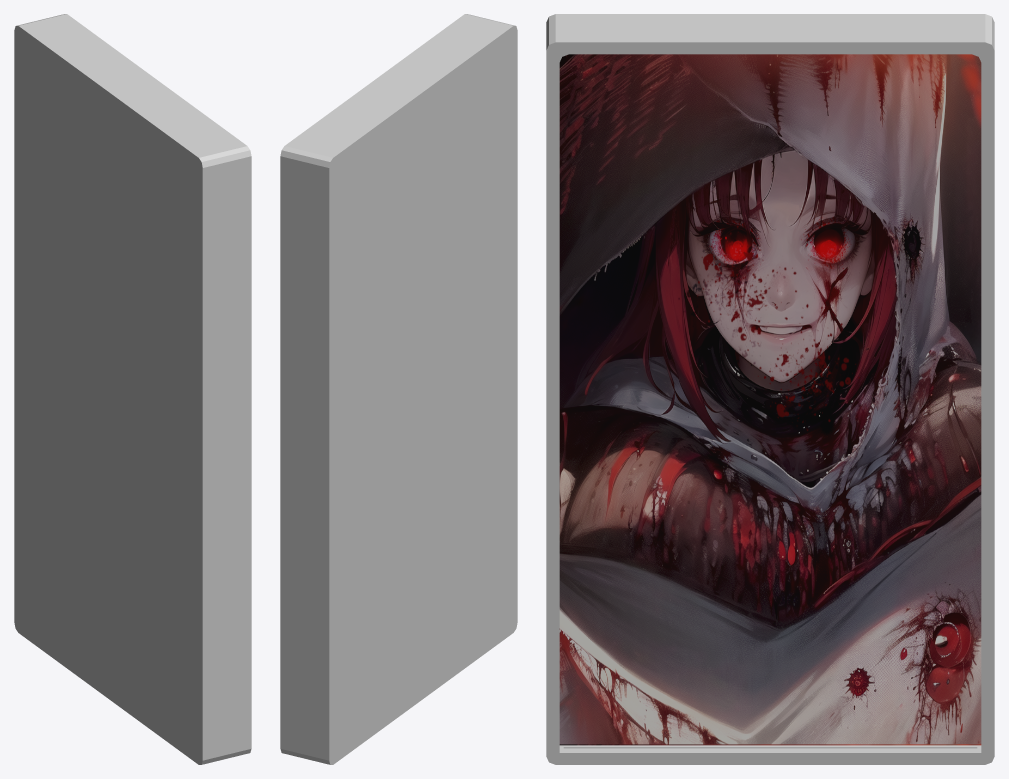
File: Paint1.fbx
3 views of the same model, side by side, from view 1: azimuth 30°, elevation 25°; view 2: azimuth 150°, elevation 25°; view 3: azimuth 270°, elevation 25° (orthographic). The views are drawn at different scales.
Parts seen in each view (by area): view 1: Paint; view 2: Paint; view 3: Paint.
Boxes of the visible parts, left/top/right/bottom form: Paint: left=14, top=14, right=251, bottom=764; Paint: left=280, top=14, right=517, bottom=764; Paint: left=546, top=14, right=994, bottom=764.
Size of the model in its own units: 11.49 by 137 by 76.9.
